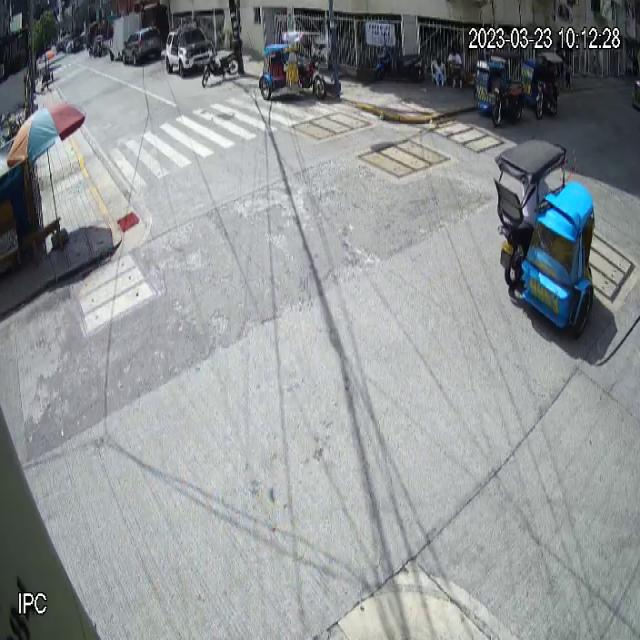Tricycle: (492, 132, 597, 338), (259, 30, 327, 101), (473, 51, 523, 127)
